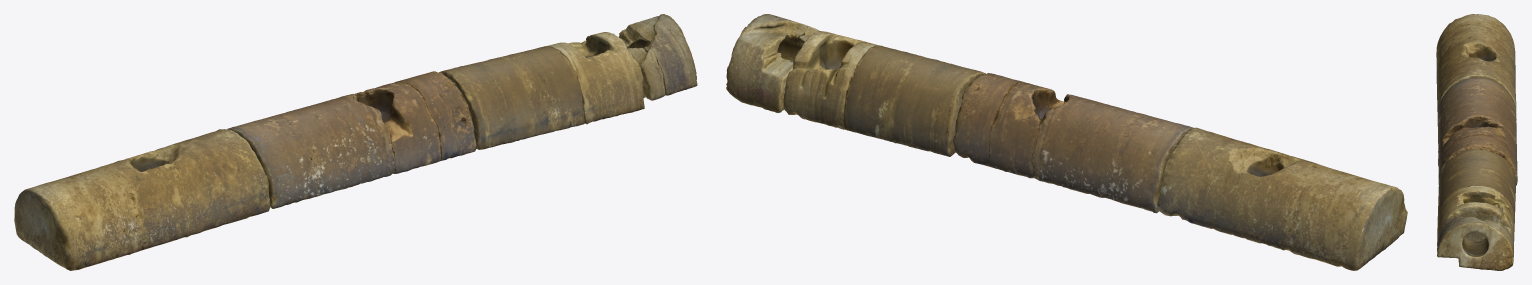
File: rock1.fbx
3 renders of one model, left to right at view 1: azimuth 30°, elevation 25°; view 2: azimuth 150°, elevation 25°; view 3: azimuth 270°, elevation 25°, orthographic. The views are drawn at different scales.
Visible parts, largest first — view 1: peca1_low, peca2_low, peca3_low, peca4_low; view 2: peca1_low, peca2_low, peca3_low, peca4_low; view 3: peca2_low, peca3_low, peca1_low, peca4_low.
Part boxes in pixels (left/top/right/bottom): peca1_low: left=14, top=129, right=270, bottom=270; peca2_low: left=227, top=71, right=476, bottom=208; peca3_low: left=439, top=32, right=644, bottom=149; peca4_low: left=619, top=14, right=697, bottom=100; peca1_low: left=1156, top=127, right=1407, bottom=270; peca2_low: left=953, top=73, right=1194, bottom=213; peca3_low: left=783, top=31, right=985, bottom=156; peca4_low: left=726, top=14, right=819, bottom=112; peca2_low: left=1437, top=77, right=1517, bottom=185; peca3_low: left=1437, top=149, right=1515, bottom=241; peca1_low: left=1436, top=14, right=1516, bottom=112; peca4_low: left=1437, top=216, right=1513, bottom=270.
Bounding box in the file's own units: 5921 × 742 × 895.
